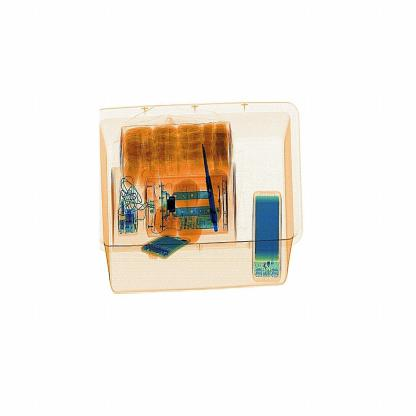gun: (189, 132, 229, 230)
